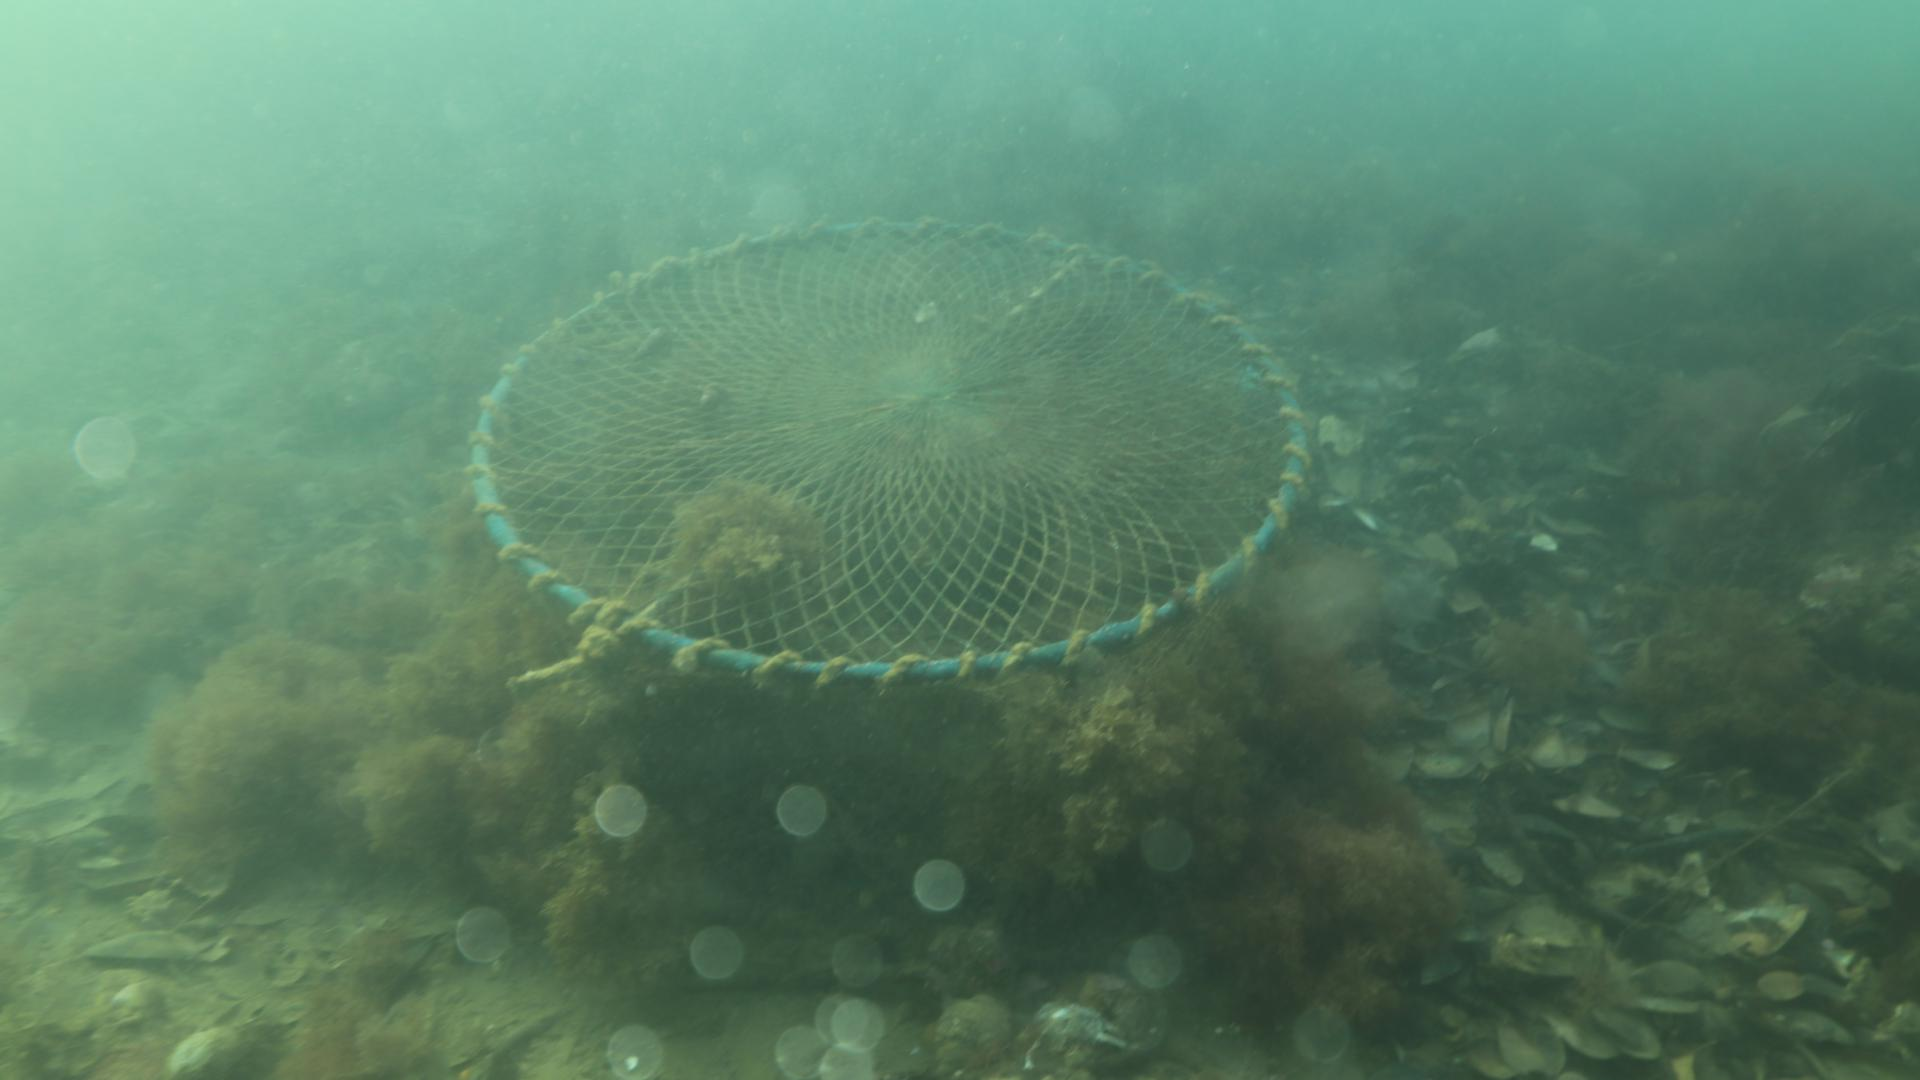circular fish trap: (465, 214, 1309, 692)
